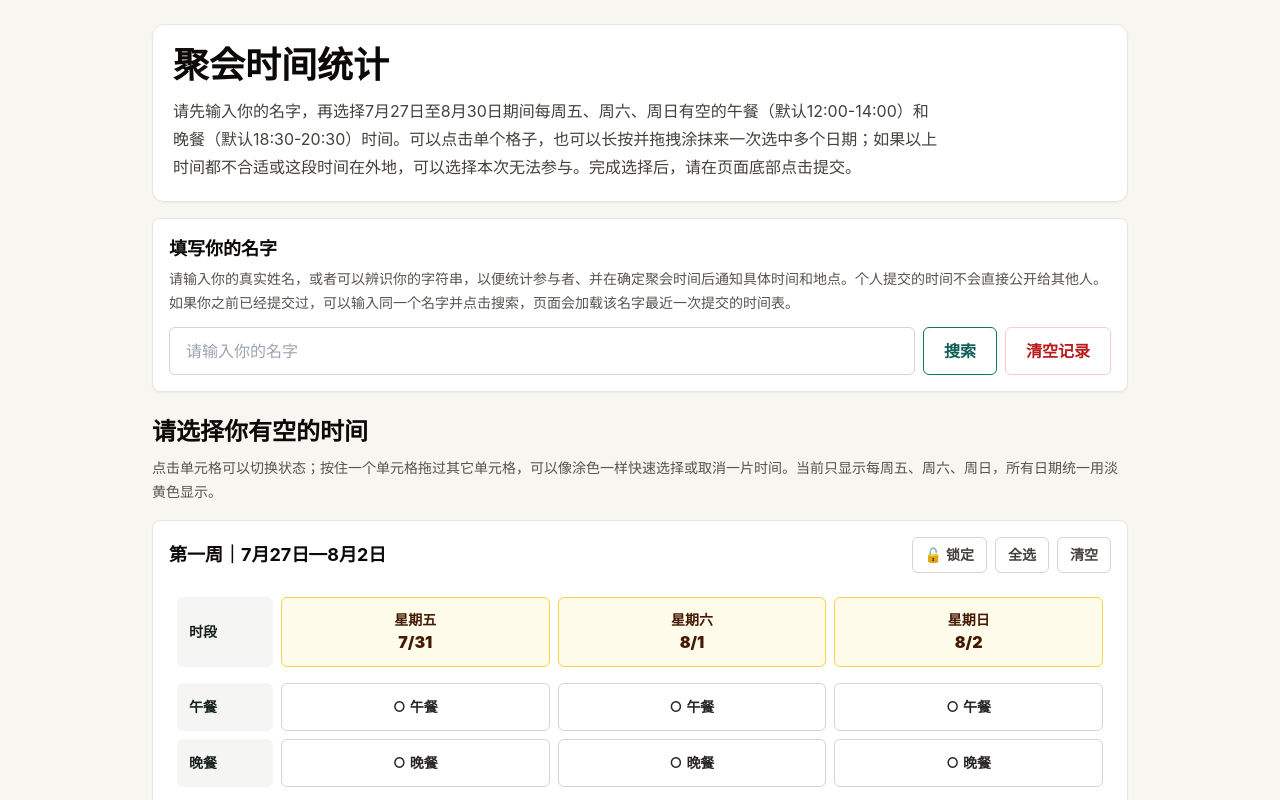
Test: App 提交流程 › 可以按姓名搜索并加载已经提交过的时间表
In the field labelled "你的名字": (542, 351) x1=169 y1=327 x2=915 y2=375, type "小陈"
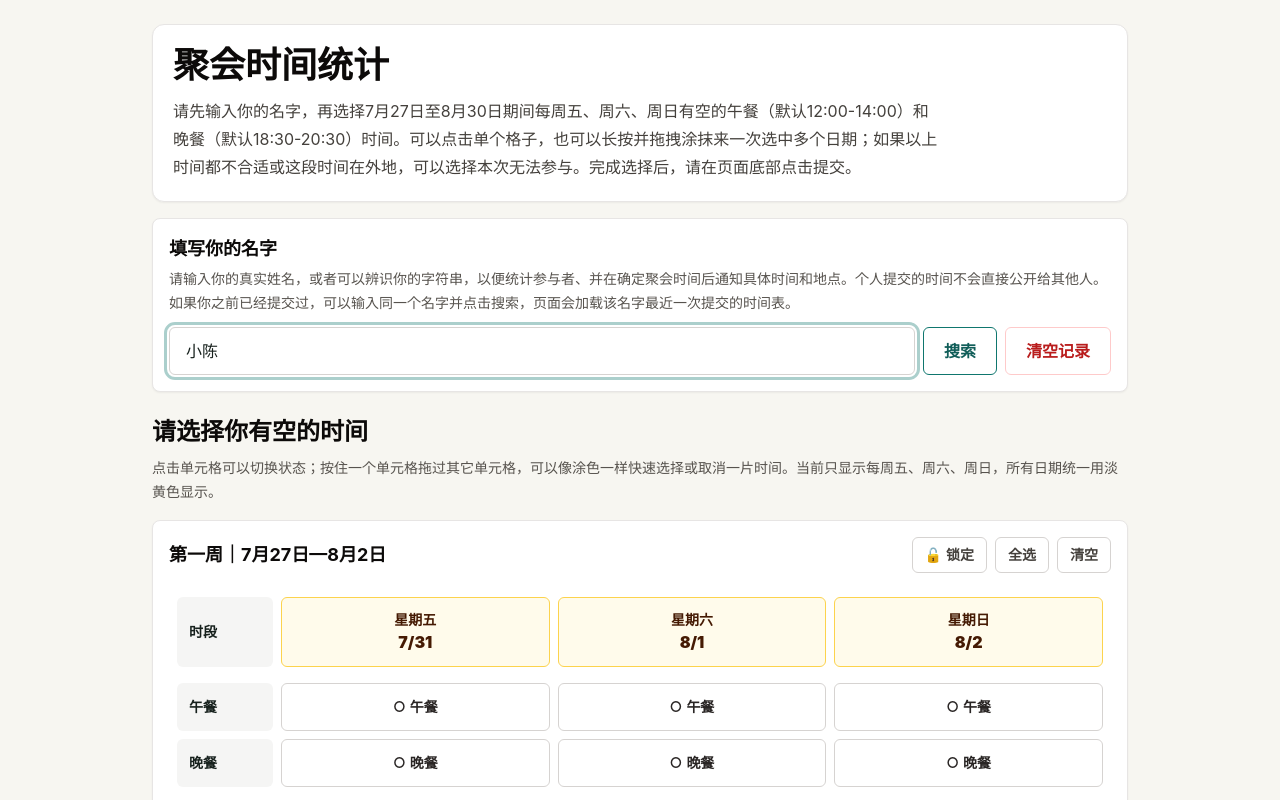
Click the button "搜索": (960, 351) x1=923 y1=327 x2=997 y2=375
(page scrolled)
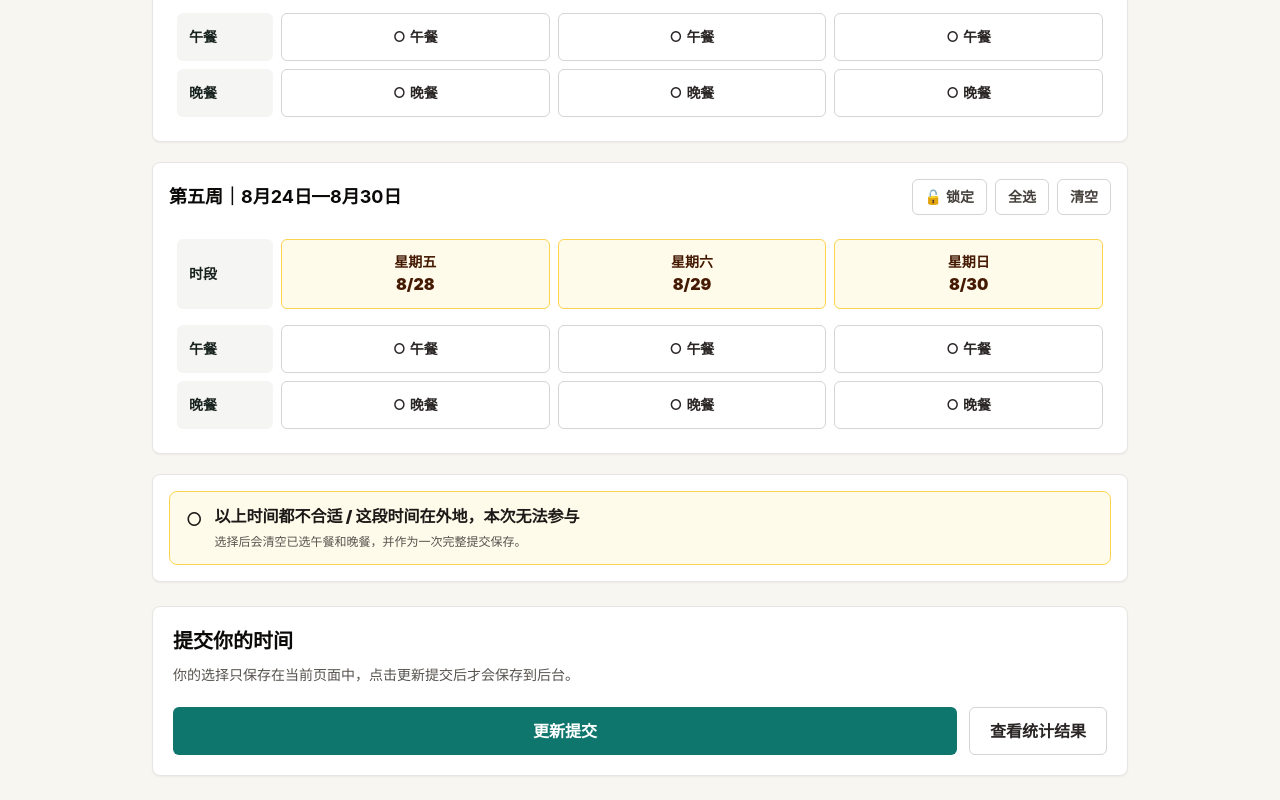
Expected: the button "更新提交" is shown, x1=173 y1=707 x2=957 y2=755
